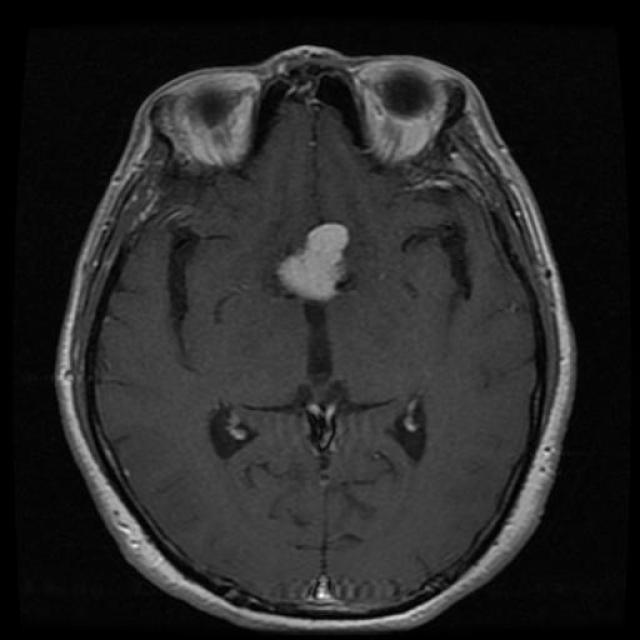Meningioma: (278, 222, 349, 301)
